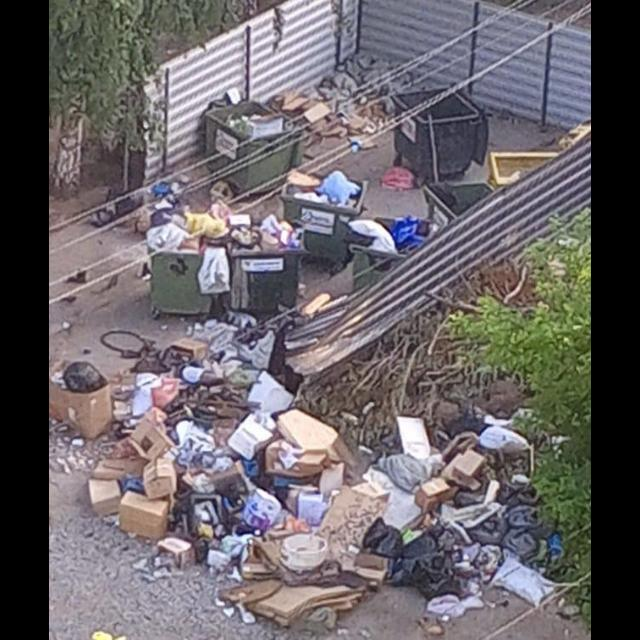Trash_Can_Empty: (390, 86, 480, 173)
Trash_Can_Full: (205, 100, 303, 190), (281, 169, 367, 261), (148, 208, 214, 314)
